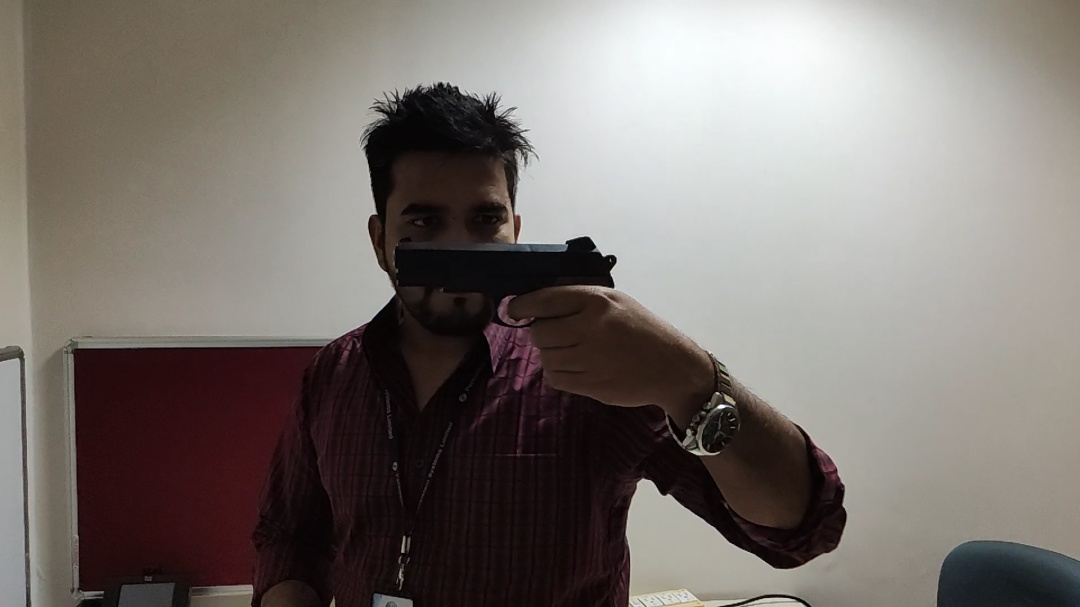gun: (402, 233, 621, 379)
